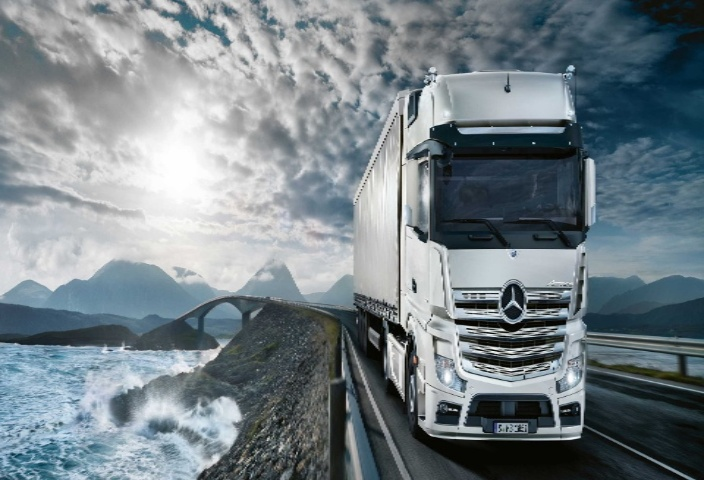truck: (302, 66, 618, 464)
